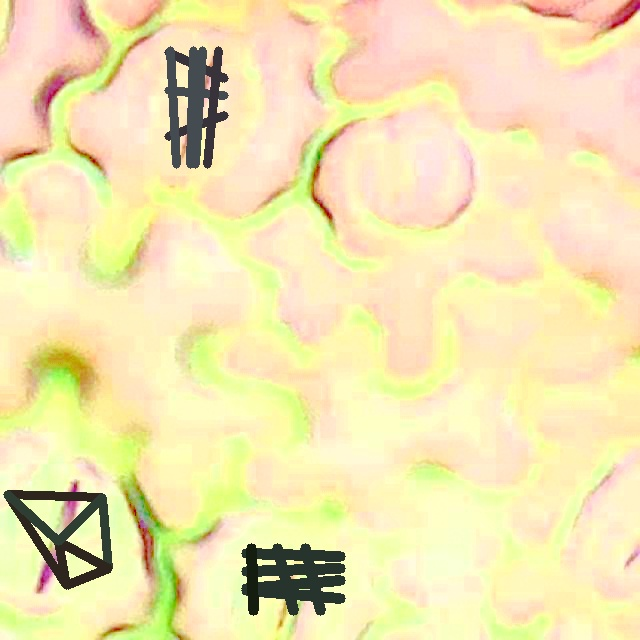close: (165, 47, 228, 168)
open: (3, 493, 112, 589), (242, 543, 344, 614)
